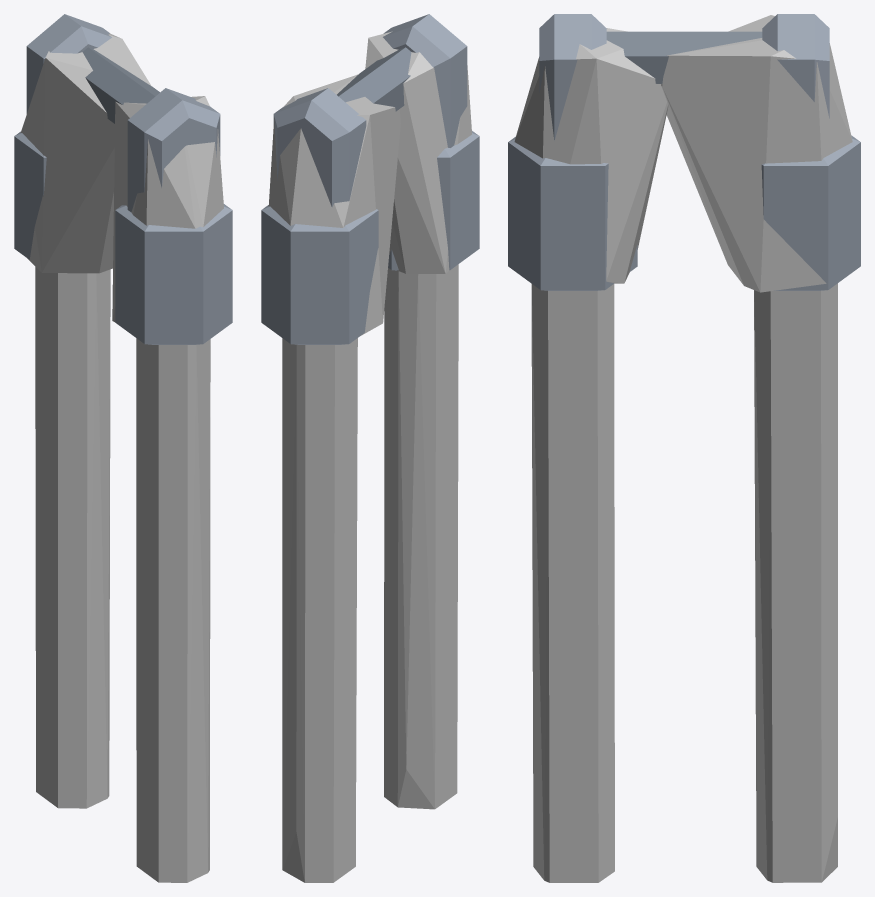
Rendered from SM_Prop_Signal_Horn_01_Leg_03.fbx.
3 views of the same model, side by side, from view 1: azimuth 30°, elevation 25°; view 2: azimuth 150°, elevation 25°; view 3: azimuth 270°, elevation 25° (orthographic). The views are drawn at different scales.
Visible parts, largest first — view 1: SM_Prop_Signal_Horn_01_Leg_03_ConvexHulls, SM_Prop_Signal_Horn_01_Leg_03; view 2: SM_Prop_Signal_Horn_01_Leg_03_ConvexHulls, SM_Prop_Signal_Horn_01_Leg_03; view 3: SM_Prop_Signal_Horn_01_Leg_03_ConvexHulls, SM_Prop_Signal_Horn_01_Leg_03.
Boxes of the visible parts, bbox=[...] form: SM_Prop_Signal_Horn_01_Leg_03_ConvexHulls: bbox=[20, 33, 223, 882]; SM_Prop_Signal_Horn_01_Leg_03: bbox=[14, 14, 232, 344]; SM_Prop_Signal_Horn_01_Leg_03_ConvexHulls: bbox=[268, 31, 471, 882]; SM_Prop_Signal_Horn_01_Leg_03: bbox=[261, 14, 479, 344]; SM_Prop_Signal_Horn_01_Leg_03_ConvexHulls: bbox=[514, 15, 852, 882]; SM_Prop_Signal_Horn_01_Leg_03: bbox=[508, 14, 860, 290].
Bounding box in the file's own units: 8.46 × 24.95 × 66.74.
2 materials, 1 textured.
